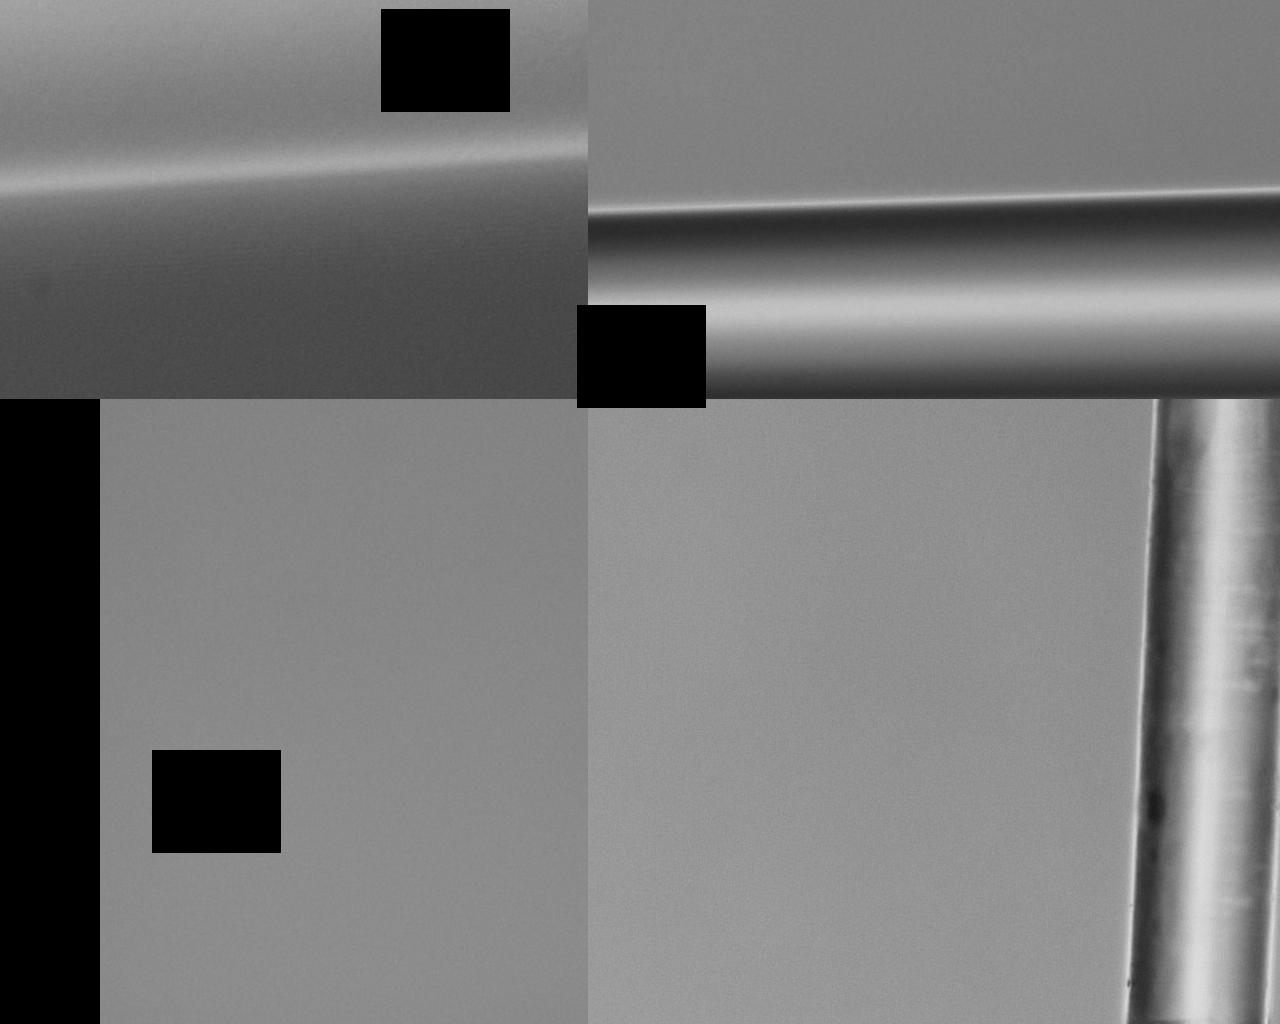fiber: (520, 137, 1280, 581), (18, 586, 460, 768)
